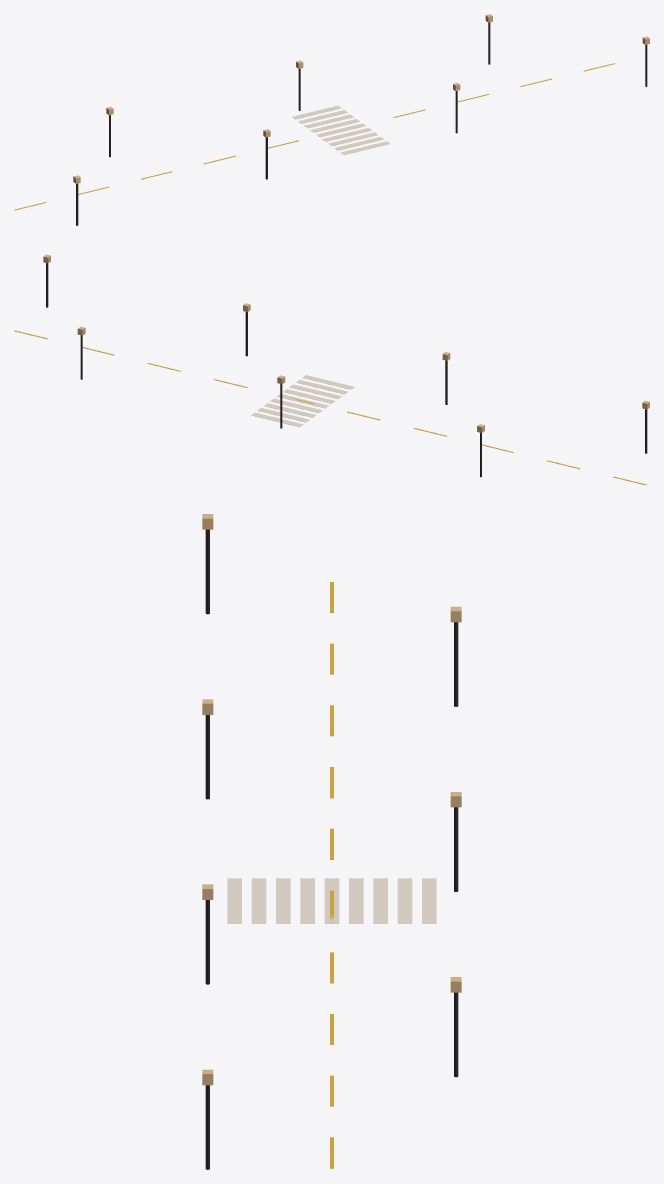
The model's file is chunk_1_2.glb.
3 renders of one model, top to bottom at view 1: azimuth 30°, elevation 25°; view 2: azimuth 150°, elevation 25°; view 3: azimuth 270°, elevation 25°, orthographic. The views are drawn at different scales.
Parts seen in each view (by area): view 1: chunk_1_2__ground, chunk_1_2__lamp; view 2: chunk_1_2__ground, chunk_1_2__lamp; view 3: chunk_1_2__ground, chunk_1_2__lamp.
Boxes of the visible parts, x1,y1,x2,y2 form: chunk_1_2__ground: (14, 63, 615, 210); chunk_1_2__lamp: (73, 14, 649, 225); chunk_1_2__ground: (14, 330, 646, 485); chunk_1_2__lamp: (43, 254, 649, 477); chunk_1_2__ground: (227, 582, 436, 1168); chunk_1_2__lamp: (202, 514, 461, 1169).
Size of the model in its own units: 57.22 by 4.4 by 10.64.
